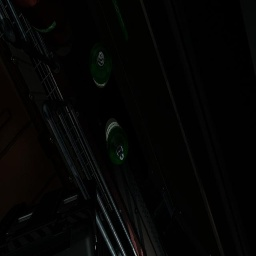0: (105, 118, 128, 165), (89, 43, 112, 88)
NitrogenTank ,: (9, 0, 72, 56)
